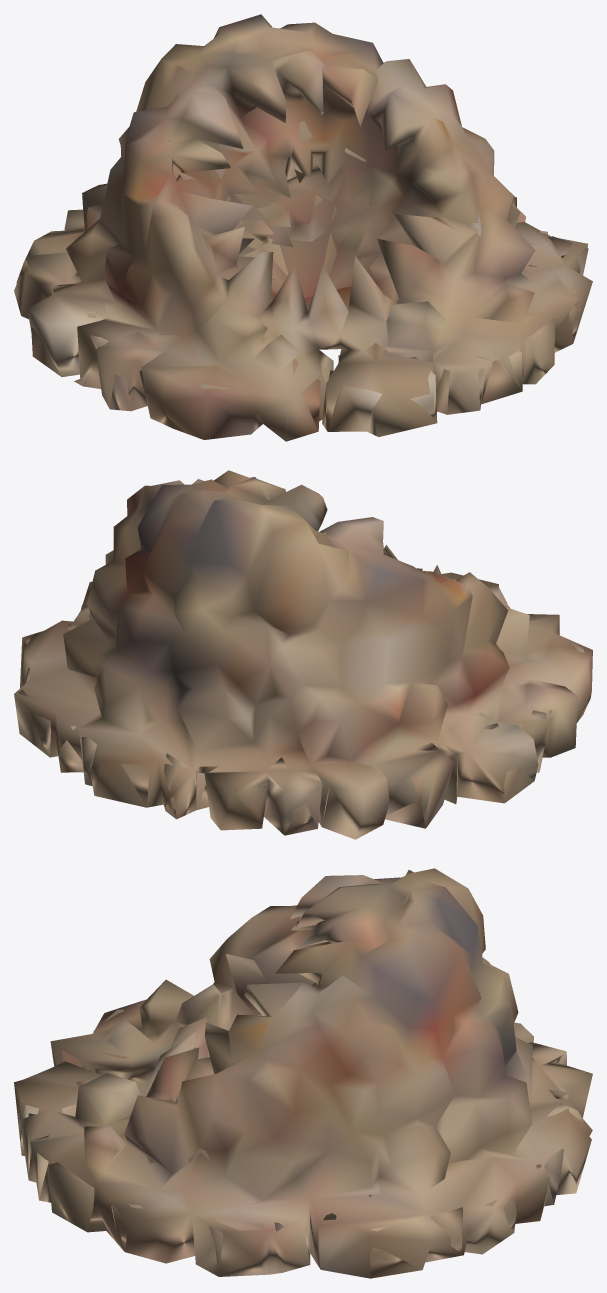
Rendered from SandPortal_game.glb.
3 views of the same model, one above another, from view 1: azimuth 30°, elevation 25°; view 2: azimuth 150°, elevation 25°; view 3: azimuth 270°, elevation 25° (orthographic). The views are drawn at different scales.
Visible parts, largest first — view 1: SandPortal; view 2: SandPortal; view 3: SandPortal.
Boxes of the visible parts, <box> form: SandPortal: <box>14,14,592,441</box>; SandPortal: <box>14,470,592,839</box>; SandPortal: <box>14,868,592,1278</box>.
Size of the model in its own units: 1.05 by 0.5333 by 1.03.
